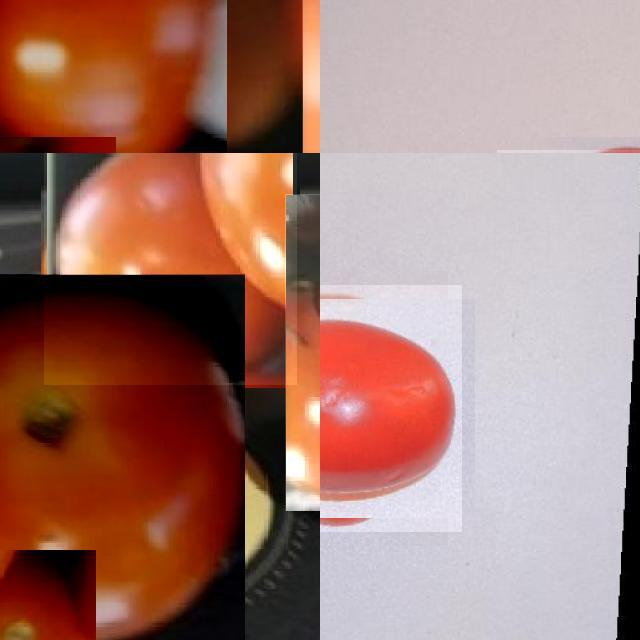Fresh Tomato: (0, 273, 244, 640), (44, 153, 296, 385), (320, 284, 461, 532), (0, 0, 226, 153)
